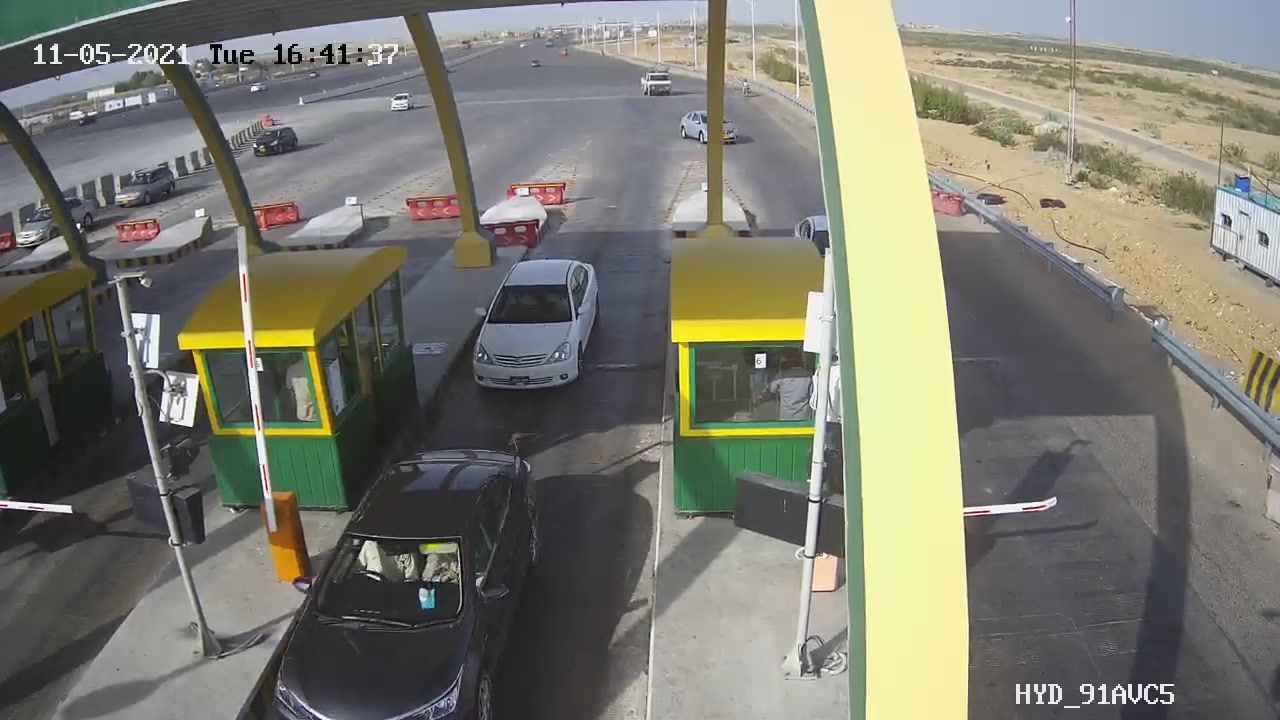F1: (452, 238, 626, 407)
